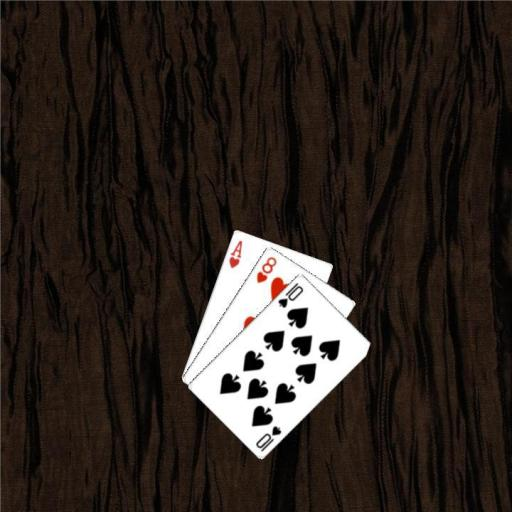10S: (252, 422, 283, 453), (275, 279, 305, 309)
8H: (253, 253, 278, 285)
AH: (225, 237, 244, 269)
